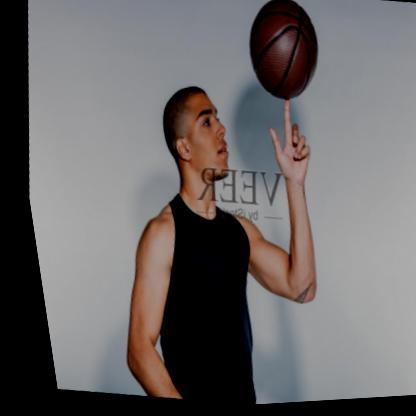basketball: (234, 0, 327, 109)
